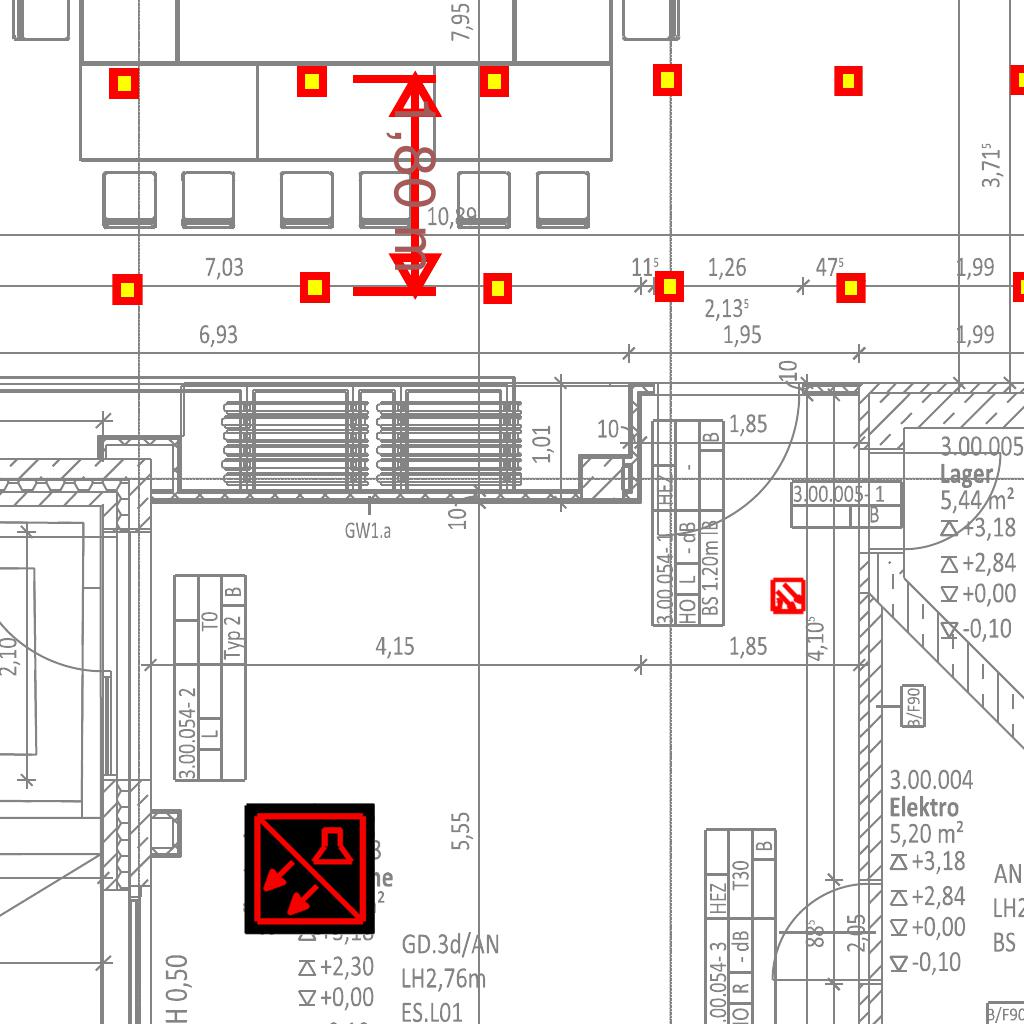OKW_Multisensormelder_(Kombination_optischer_Rauch-Kahlenmonoxid_Waerme-Melder): (243, 803, 375, 935)
OT_Multisensormelder_(Kombination_RMO_WMD): (760, 569, 816, 625)
